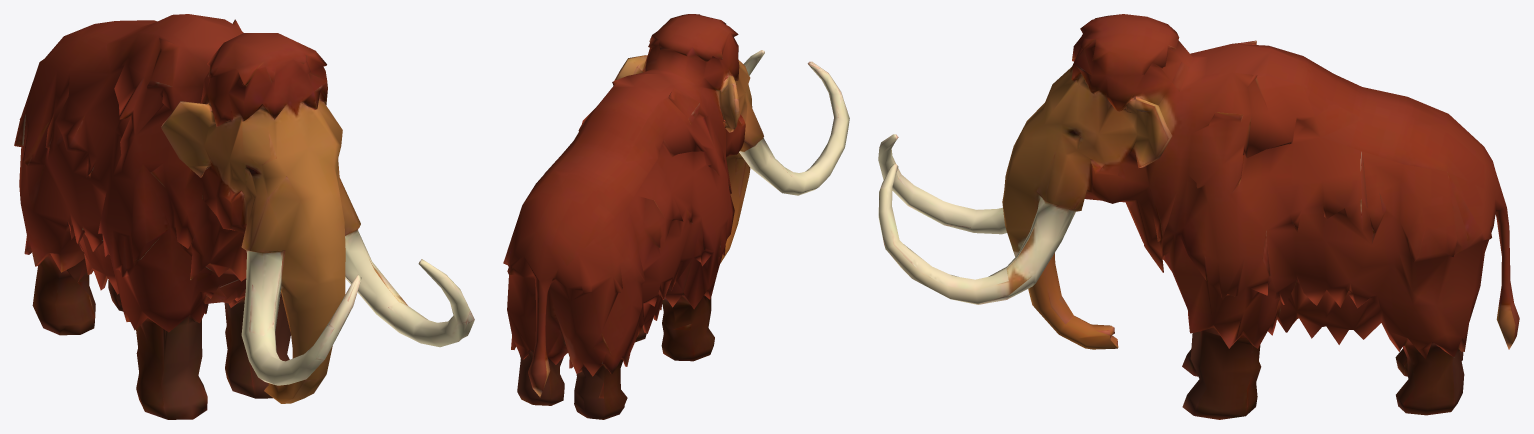
Rendered from mammoth.glb.
3 views of the same model, side by side, from view 1: azimuth 30°, elevation 25°; view 2: azimuth 150°, elevation 25°; view 3: azimuth 270°, elevation 25° (orthographic). The views are drawn at different scales.
Visible parts, largest first — view 1: Mesh_0; view 2: Mesh_0; view 3: Mesh_0.
Part boxes in pixels (x1,y1,x2,y2): Mesh_0: [14, 14, 474, 419]; Mesh_0: [503, 14, 849, 419]; Mesh_0: [878, 14, 1519, 419].
Bounding box in the file's own units: 0.6244 × 1.2 × 1.91.
Materials: 1 (1 with a texture image).
